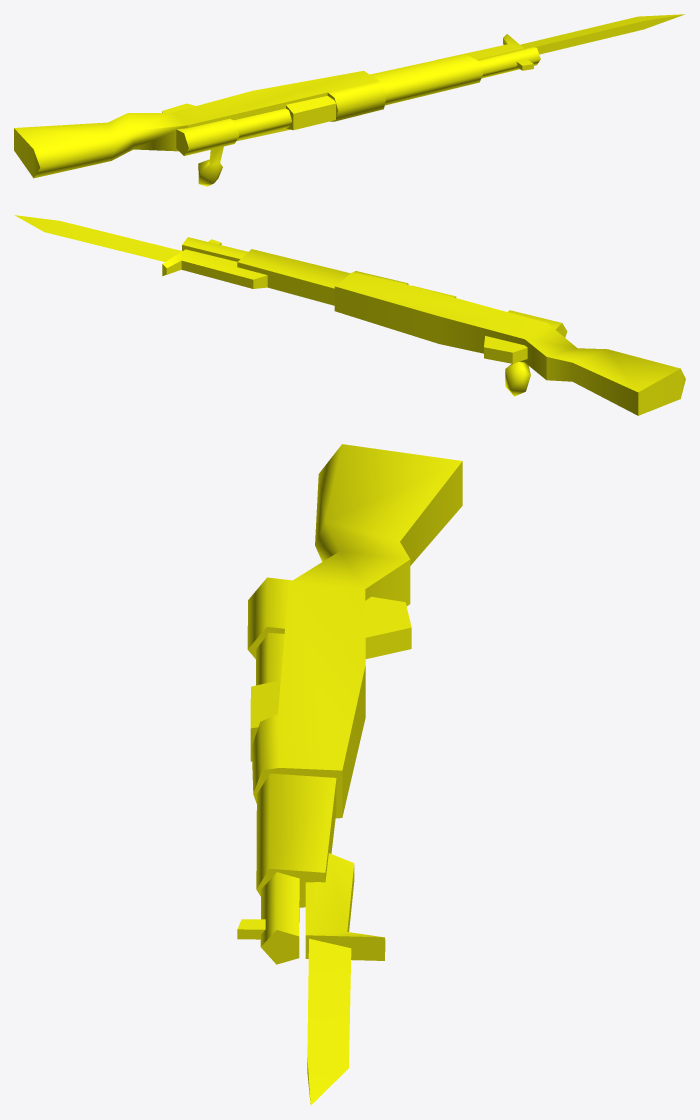
Rendered from weapon_arisaka_bayonet.glb.
3 renders of one model, top to bottom at view 1: azimuth 30°, elevation 25°; view 2: azimuth 150°, elevation 25°; view 3: azimuth 270°, elevation 25°, orthographic. The views are drawn at different scales.
Parts seen in each view (by area): view 1: weapon_arisaka_bayonet; view 2: weapon_arisaka_bayonet; view 3: weapon_arisaka_bayonet.
Boxes of the visible parts, box(x1,y1,x2,y2) form: weapon_arisaka_bayonet: box(14, 14, 684, 186); weapon_arisaka_bayonet: box(14, 215, 685, 415); weapon_arisaka_bayonet: box(237, 444, 462, 1105).
Size of the model in its own units: 2.32 by 0.2529 by 0.3514.
1 material, 1 textured.
